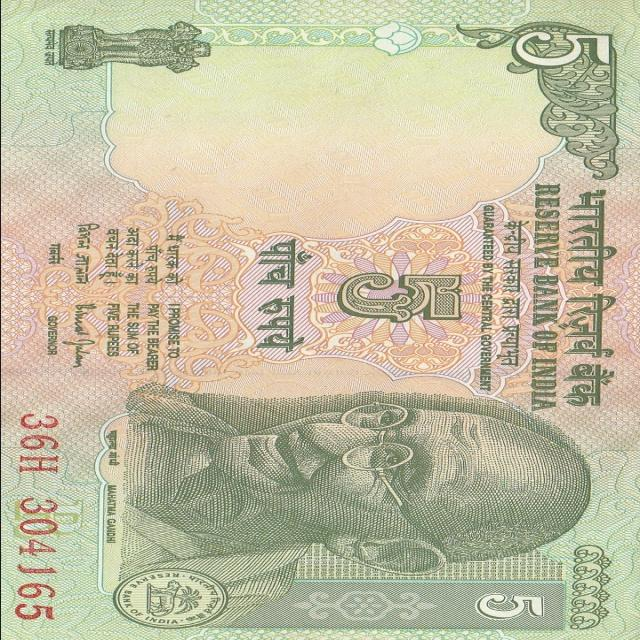5IndianRupees: (1, 5, 634, 633)
